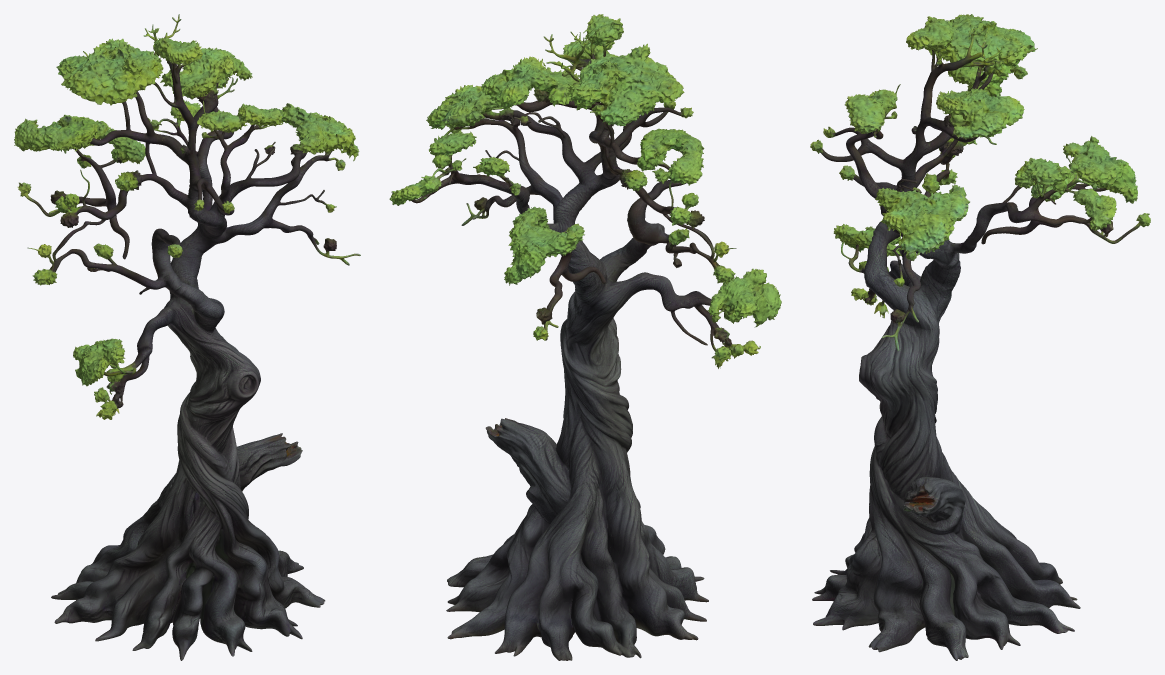
File: Tree_Gnarled_RO.glb
3 renders of one model, left to right at view 1: azimuth 30°, elevation 25°; view 2: azimuth 150°, elevation 25°; view 3: azimuth 270°, elevation 25°, orthographic. The views are drawn at different scales.
Bounding box in the file's own units: 1.07 × 1.9 × 1.03.
Materials: 1 (1 with a texture image).
